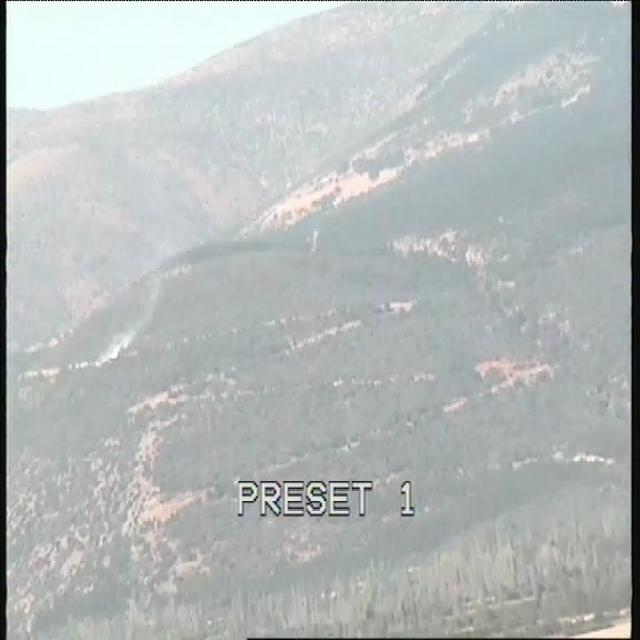smoke: (95, 320, 144, 373)
